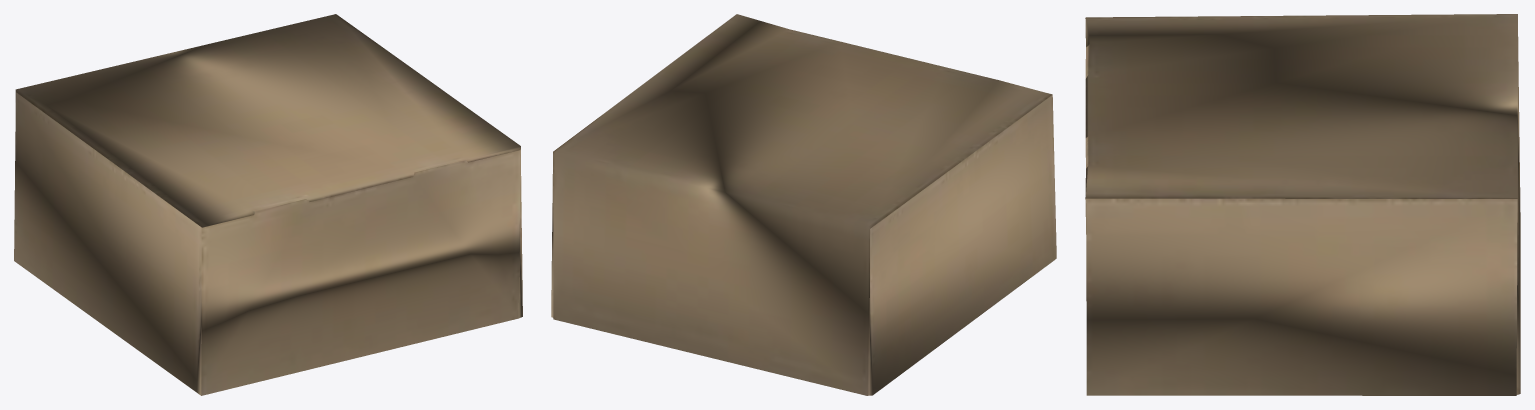
The model's file is carton_c-lo.glb.
3 views of the same model, side by side, from view 1: azimuth 30°, elevation 25°; view 2: azimuth 150°, elevation 25°; view 3: azimuth 270°, elevation 25° (orthographic). The views are drawn at different scales.
Visible parts, largest first — view 1: body; view 2: body; view 3: body.
Part boxes in pixels (<box>): body: <box>14,14,522,395</box>; body: <box>551,14,1056,395</box>; body: <box>1085,14,1520,395</box>.
Size of the model in its own units: 0.5107 by 0.2587 by 0.506.
Materials: 1 (1 with a texture image).
